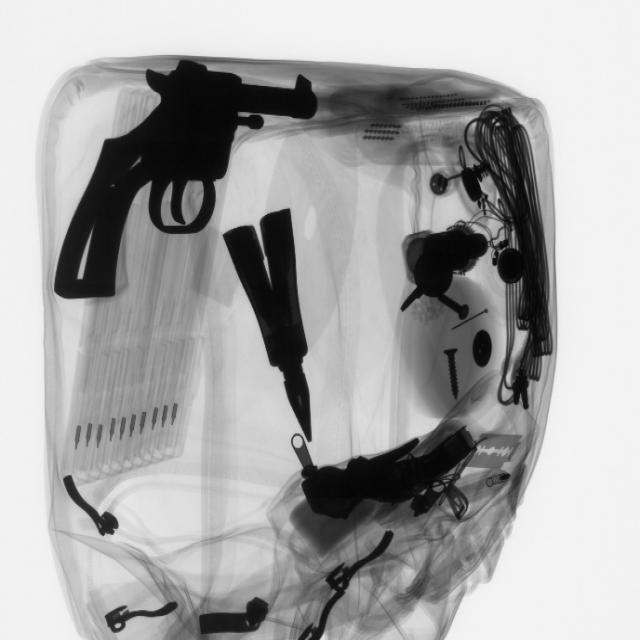BLADE: (460, 430, 523, 480)
GUN: (47, 67, 321, 302)
SCREW: (433, 341, 475, 411)
